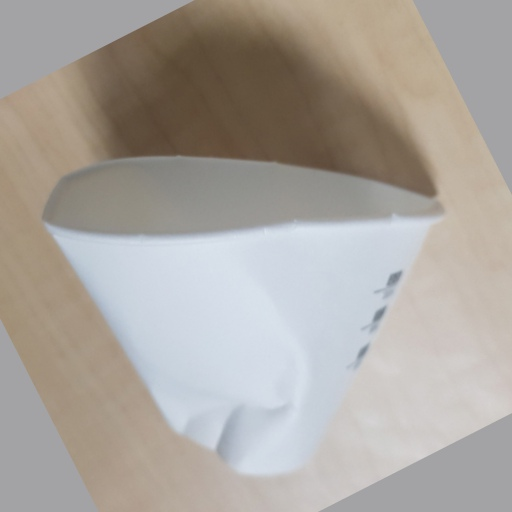Paper_1: (38, 152, 445, 473)
